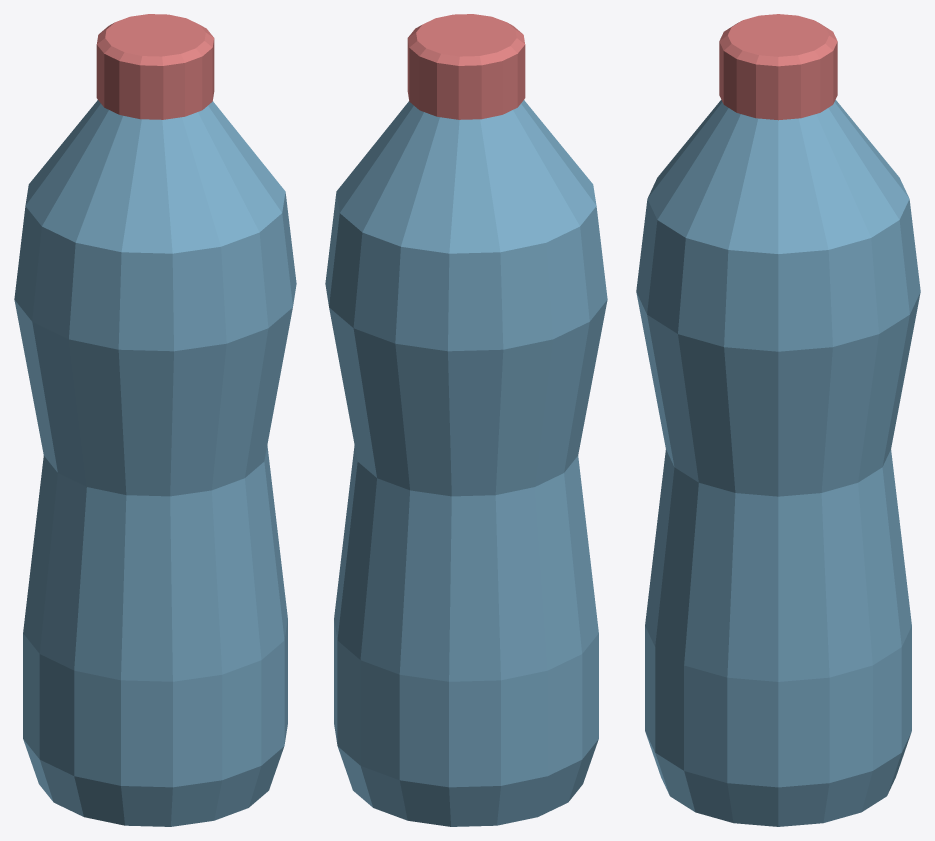
Rendered from Bottle_01 1.fbx.
3 views of the same model, side by side, from view 1: azimuth 30°, elevation 25°; view 2: azimuth 150°, elevation 25°; view 3: azimuth 270°, elevation 25° (orthographic).
Parts seen in each view (by area): view 1: Cylinder001; view 2: Cylinder001; view 3: Cylinder001.
Part boxes in pixels (bbox=[...]): Cylinder001: bbox=[14, 14, 296, 826]; Cylinder001: bbox=[325, 14, 607, 826]; Cylinder001: bbox=[636, 14, 920, 826].
Size of the model in its own units: 8.53 by 24.53 by 8.53.
